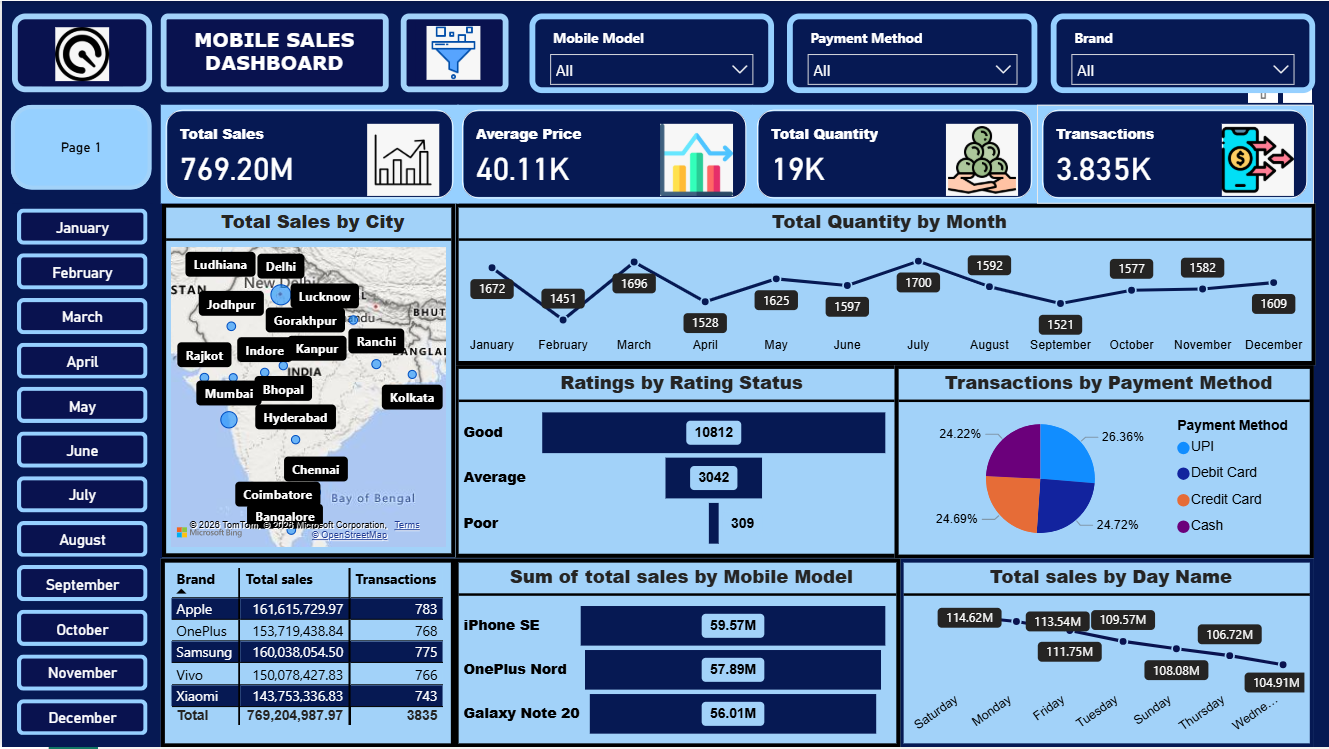

The dashboard page shown, as its layout file describes it:
{"tool":"powerbi","page":{"name":"Page 1","canvas":[1280,720],"ordinal":0},"visuals":[{"type":"funnel","title":"Ratings by Rating Status","fields":{"Category":["Sheet1.status"],"Y":["Sum(Sheet1.Customer Ratings)"]},"box":[436.2,351.2,430,186.2],"z":0},{"type":"pieChart","title":"Transactions by Payment Method","fields":{"Category":["Sheet1.Payment Method"],"Y":["CountNonNull(Sheet1.Payment Method)"]},"box":[861.2,351.2,405,187.5],"z":1000},{"type":"areaChart","title":"Total sales by Day Name","fields":{"Y":["Sum(Sheet1.total sales)"],"Category":["Sheet1.Day Name"]},"box":[866.2,537.5,400,182.5],"z":2000},{"type":"funnel","fields":{"Category":["Sheet1.Mobile Model"],"Y":["Sum(Sheet1.total sales)"]},"box":[436.2,537.5,430,182.5],"z":3000},{"type":"lineChart","title":"Total Quantity by Month","fields":{"Y":["Sheet1.total unit sold"],"Category":["Sheet1.Date.Variation.Date Hierarchy.Month"]},"box":[436.2,195,831.2,156.2],"z":4000},{"type":"map","title":"Total Sales by City","fields":{"Category":["Sheet1.City"],"Size":["Sheet1.total sales m"]},"box":[154.3,195.7,282.9,341.4],"z":5000},{"type":"tableEx","fields":{"Values":["Sheet1.Brand","Sum(Sheet1.total sales)","CountNonNull(Sheet1.Transaction ID)"]},"box":[153.8,537.5,283.8,182.5],"z":6000},{"type":"advancedSlicerVisual","fields":{"Values":["Sheet1.Date.Variation.Date Hierarchy.Month"]},"box":[9.7,195.4,136.3,524.8],"z":7000},{"type":"pageNavigator","box":[8.4,100.1,136.3,82],"z":8000},{"type":"cardVisual","fields":{"Data":["Sheet1.total sales m"]},"box":[153.2,100.1,287.1,95.3],"z":9000},{"type":"cardVisual","fields":{"Data":["Avg(Sheet1.Price Per Unit)"]},"box":[439.1,100.1,284.7,95.3],"z":10000},{"type":"cardVisual","fields":{"Data":["Sum(Sheet1.Units Sold)"]},"box":[723.9,100.1,275.1,95.3],"z":11000},{"type":"cardVisual","fields":{"Data":["CountNonNull(Sheet1.Transaction ID)"]},"box":[998.9,100.1,266.6,95.3],"z":12000},{"type":"slicer","fields":{"Values":["Sheet1.Mobile Model"]},"box":[509.2,12.5,235.8,76.7],"z":13000},{"type":"slicer","fields":{"Values":["Sheet1.Payment Method"]},"box":[757.5,12.5,241.7,76.7],"z":14000},{"type":"slicer","fields":{"Values":["Sheet1.Brand"]},"box":[1011.7,12.5,255,76.7],"z":15000},{"type":"textbox","box":[153.8,12.5,220,76.2],"z":16000},{"type":"textbox","box":[10,12.5,135,76.2],"z":17000},{"type":"image","box":[38.6,20.5,77.2,61.5],"z":18000},{"type":"textbox","box":[385,12.5,103.8,76.2],"z":19000},{"type":"image","box":[399.3,19.3,73.6,61.5],"z":20000}]}

Visuals, with their boxes in screenshot pixels (x1, y1, x2, y2), scaled from the page's 1280x720 canvas onto the 1329x749 screenshot:
"Ratings by Rating Status" funnel: <box>453,365,899,559</box>
"Transactions by Payment Method" pieChart: <box>894,365,1315,560</box>
"Total sales by Day Name" areaChart: <box>899,559,1315,748</box>
funnel - Sheet1.Mobile Model x Sum(Sheet1.total sales): <box>453,559,899,748</box>
"Total Quantity by Month" lineChart: <box>453,203,1316,365</box>
"Total Sales by City" map: <box>160,204,454,559</box>
tableEx - Sheet1.Brand x Sum(Sheet1.total sales): <box>160,559,454,748</box>
advancedSlicerVisual - Sheet1.Date.Variation.Date Hierarchy.Month: <box>10,203,152,748</box>
pageNavigator: <box>9,104,150,189</box>
cardVisual - Sheet1.total sales m: <box>159,104,457,203</box>
cardVisual - Avg(Sheet1.Price Per Unit): <box>456,104,752,203</box>
cardVisual - Sum(Sheet1.Units Sold): <box>752,104,1037,203</box>
cardVisual - CountNonNull(Sheet1.Transaction ID): <box>1037,104,1314,203</box>
slicer - Sheet1.Mobile Model: <box>529,13,774,93</box>
slicer - Sheet1.Payment Method: <box>786,13,1037,93</box>
slicer - Sheet1.Brand: <box>1050,13,1315,93</box>
textbox: <box>160,13,388,92</box>
textbox: <box>10,13,151,92</box>
image: <box>40,21,120,85</box>
textbox: <box>400,13,508,92</box>
image: <box>415,20,491,84</box>
